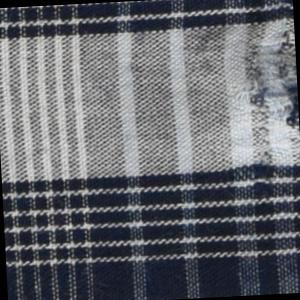Damage: (231, 1, 300, 174)
